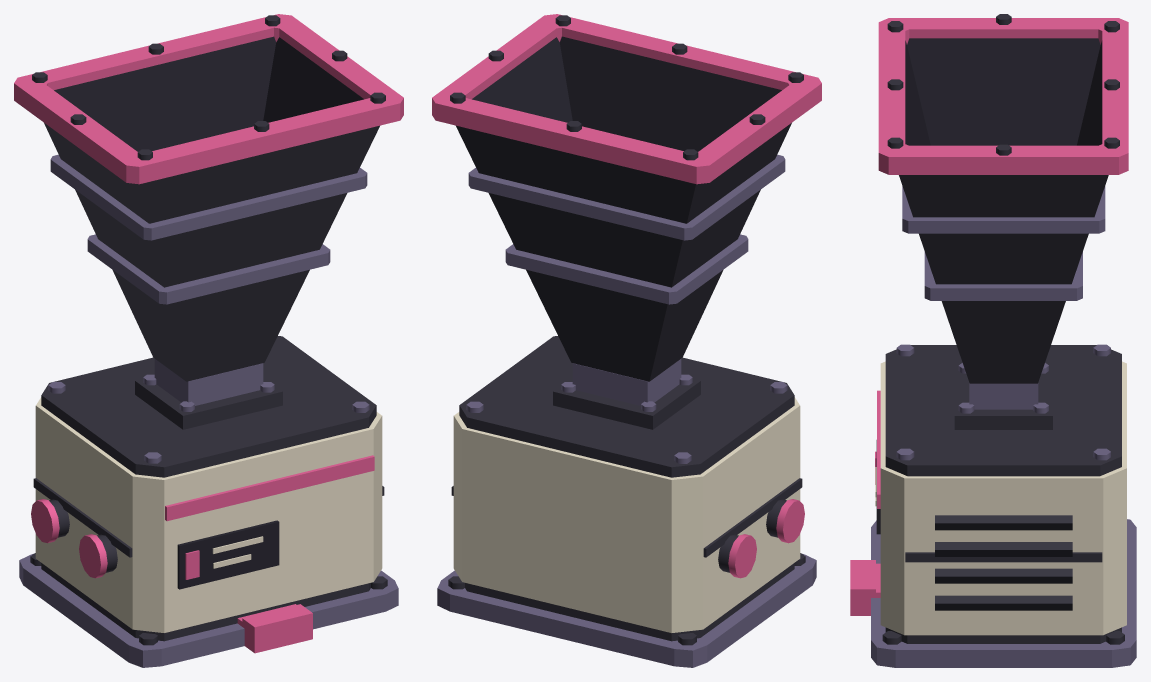
Rendered from deep_space_link.glb.
3 renders of one model, left to right at view 1: azimuth 30°, elevation 25°; view 2: azimuth 150°, elevation 25°; view 3: azimuth 270°, elevation 25°, orthographic. The views are drawn at different scales.
Visible parts, largest first — view 1: link_Graphite, link_CreamHull, link_Pink, link_DecalDark, link_PurpleGrey; view 2: link_Graphite, link_CreamHull, link_PurpleGrey, link_Pink, link_DecalDark; view 3: link_Graphite, link_CreamHull, link_DecalDark, link_Pink, link_PurpleGrey.
Boxes of the visible parts, x1=… form: link_Graphite: x1=30, y1=15, x2=387, y2=645; link_CreamHull: x1=35, y1=397, x2=382, y2=632; link_Pink: x1=14, y1=14, x2=403, y2=653; link_DecalDark: x1=54, y1=36, x2=363, y2=589; link_PurpleGrey: x1=19, y1=154, x2=398, y2=667; link_Graphite: x1=448, y1=15, x2=805, y2=645; link_CreamHull: x1=453, y1=397, x2=800, y2=632; link_PurpleGrey: x1=437, y1=154, x2=816, y2=667; link_Pink: x1=432, y1=14, x2=821, y2=578; link_DecalDark: x1=472, y1=36, x2=781, y2=151; link_Graphite: x1=882, y1=14, x2=1124, y2=644; link_CreamHull: x1=875, y1=361, x2=1126, y2=635; link_DecalDark: x1=876, y1=38, x2=1102, y2=534; link_Pink: x1=850, y1=18, x2=1128, y2=615; link_PurpleGrey: x1=871, y1=186, x2=1136, y2=667.
Bounding box in the file's own units: 0.339 × 0.582 × 0.291.
